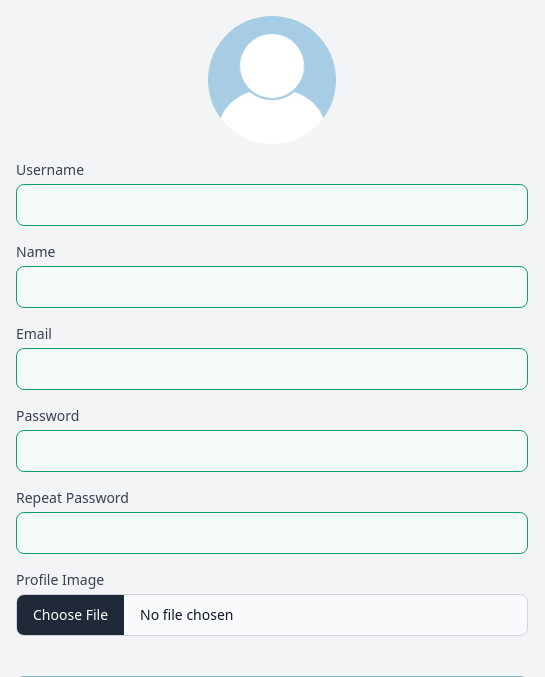
Test: UserSignupForm › Input interactions › displays required validation error message given blank name
This screenshot has width=545, height=677.
Type "a" into the field labelled "Name". click: (272, 287)
box: [16,266,528,308]
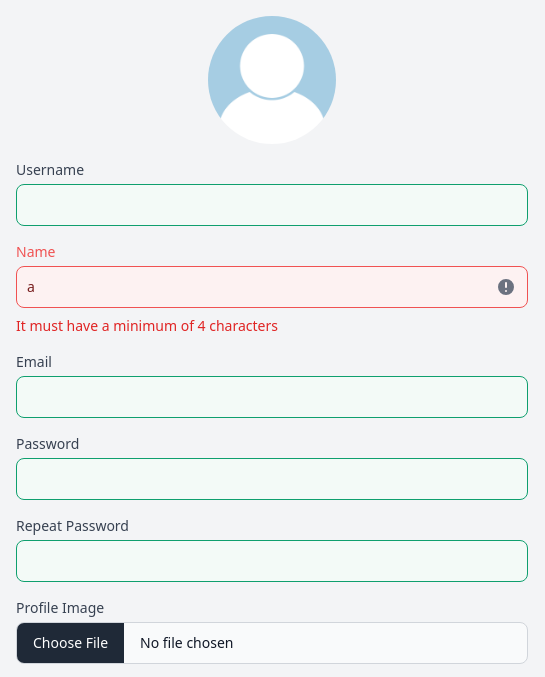
Clear the field labelled "Name". click: (272, 287)
box: [16,266,528,308]
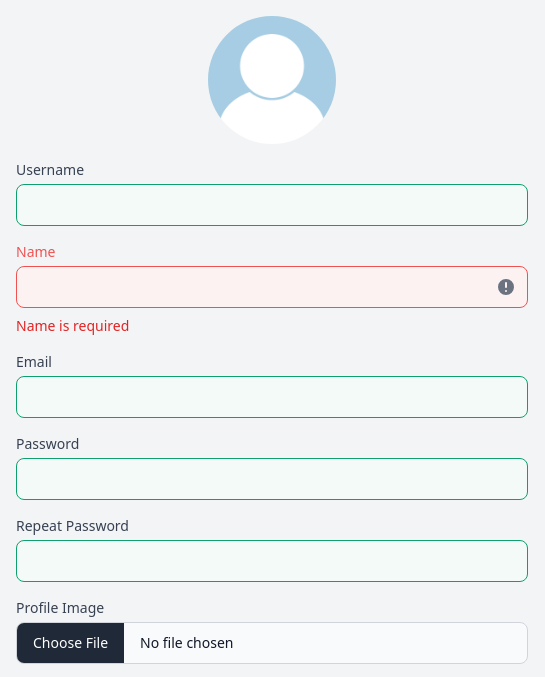
Check: the text "Name is required" is shown, box [16,316,129,335]
